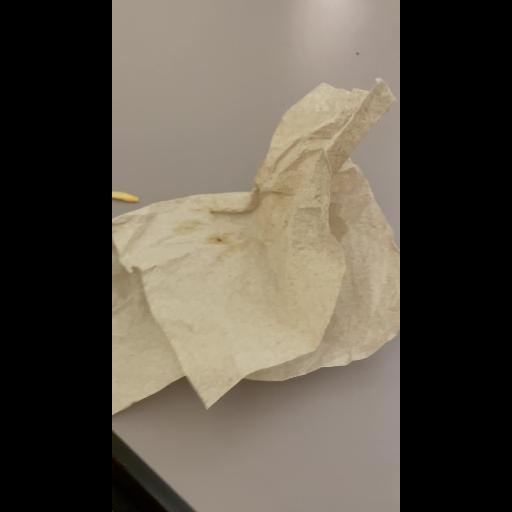napkin: (112, 52, 400, 446)
